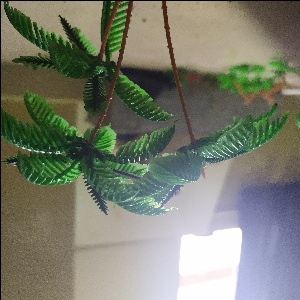plant: (6, 93, 162, 227), (4, 2, 168, 110), (152, 120, 283, 192)
